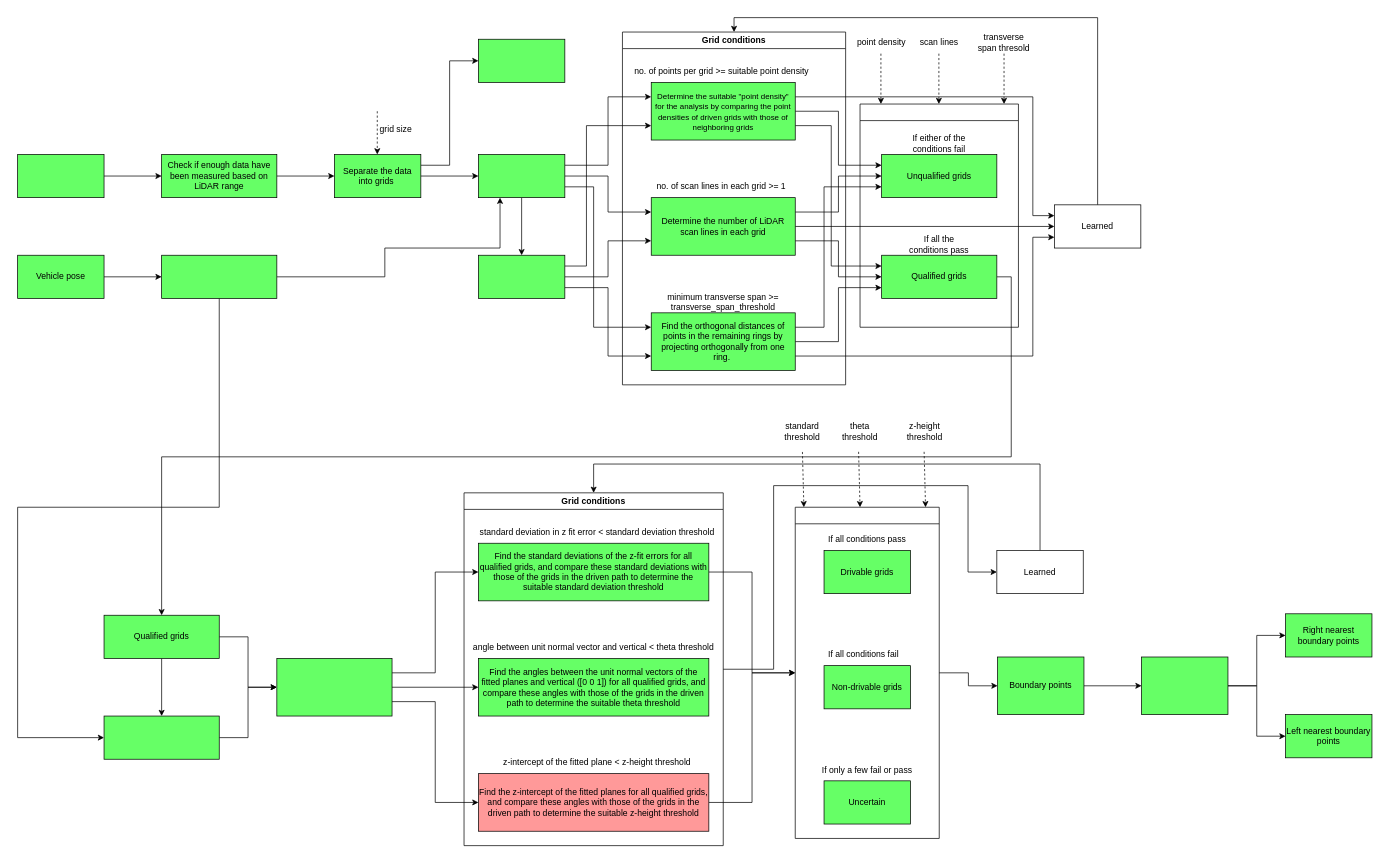
This 1385x858 diagram has some shape labels left out. Here are the shapes that lost their labels. From the top down, the box of each, then its label:
(478, 39, 565, 82): Find the grids with zero points and remove them
(17, 154, 104, 198): LiDAR data
(478, 154, 565, 198): Find the grids containing more than zero points
(161, 255, 277, 298): Find the boundary points of the driven path for creating a bounding box
(478, 255, 565, 298): Find the driven path grids. (The grids inside bounding box)
(276, 658, 392, 716): Fit a plane to each grid using linear regression
(795, 507, 939, 838): Voting
(1141, 656, 1228, 715): The nearest boundary points
(103, 715, 219, 759): Find the driven paths in the qualified grids
